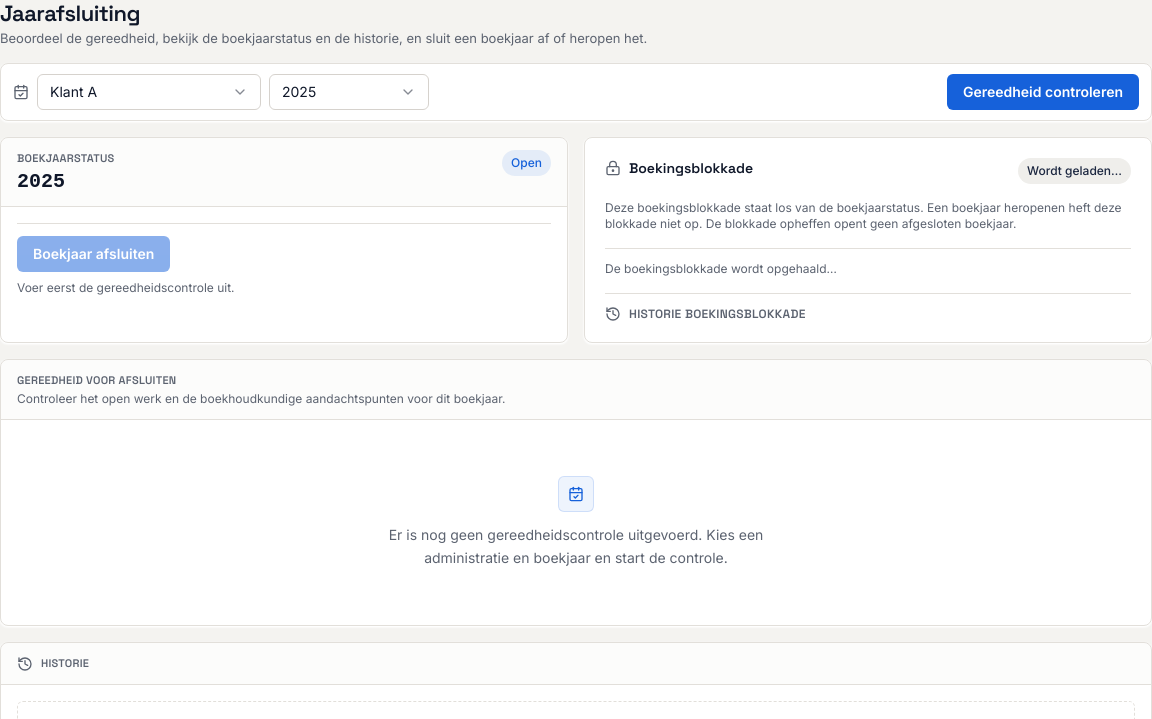
Test: De bevestiging › 7. de knop opent een dialoog en boekt nog niets
Step 1. Click the button with test id "jaar-uitvoeren" → {"x": 1043, "y": 92}, box [947, 74, 1139, 110]
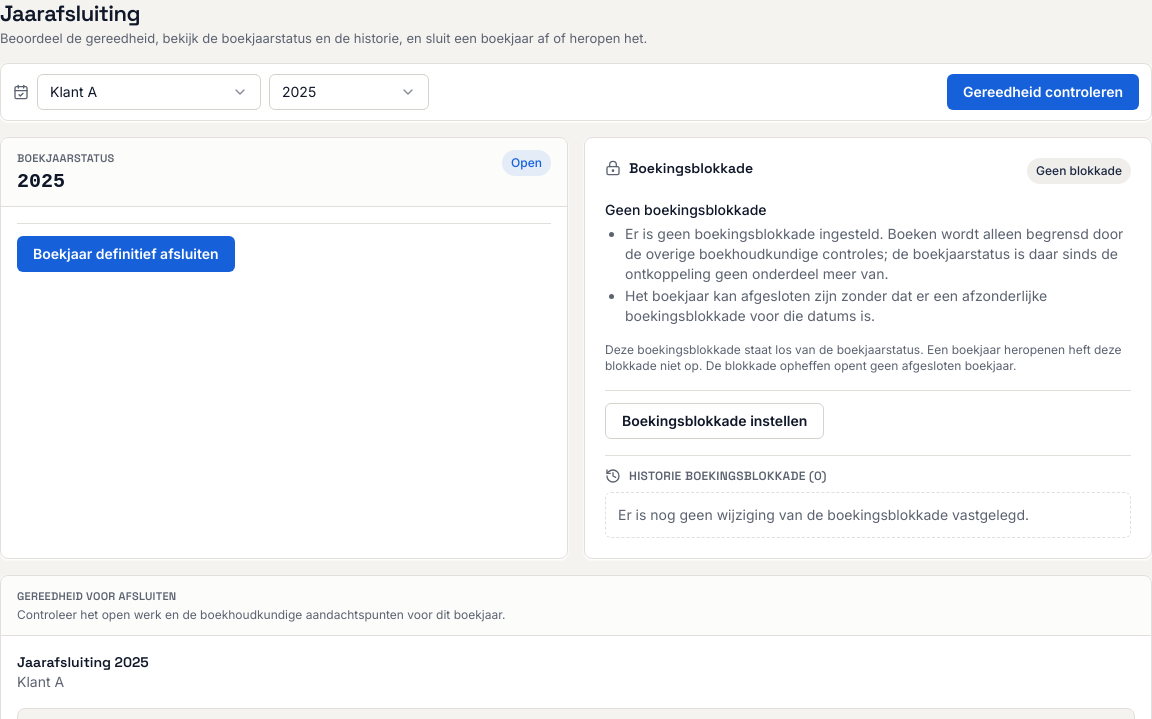
Step 2. Click the button with test id "jaar-afsluiten" → {"x": 126, "y": 254}, box [17, 236, 235, 272]
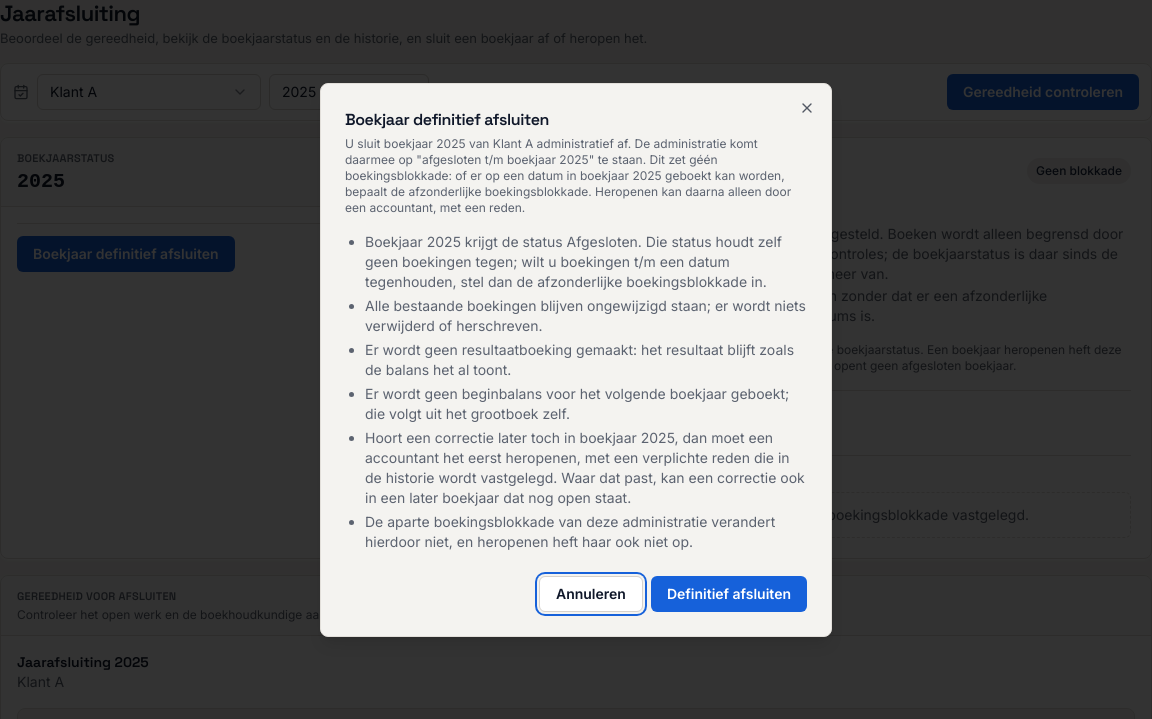
Now the dialog with test id "jaar-bevestigen" is shown, box [320, 83, 832, 637]
